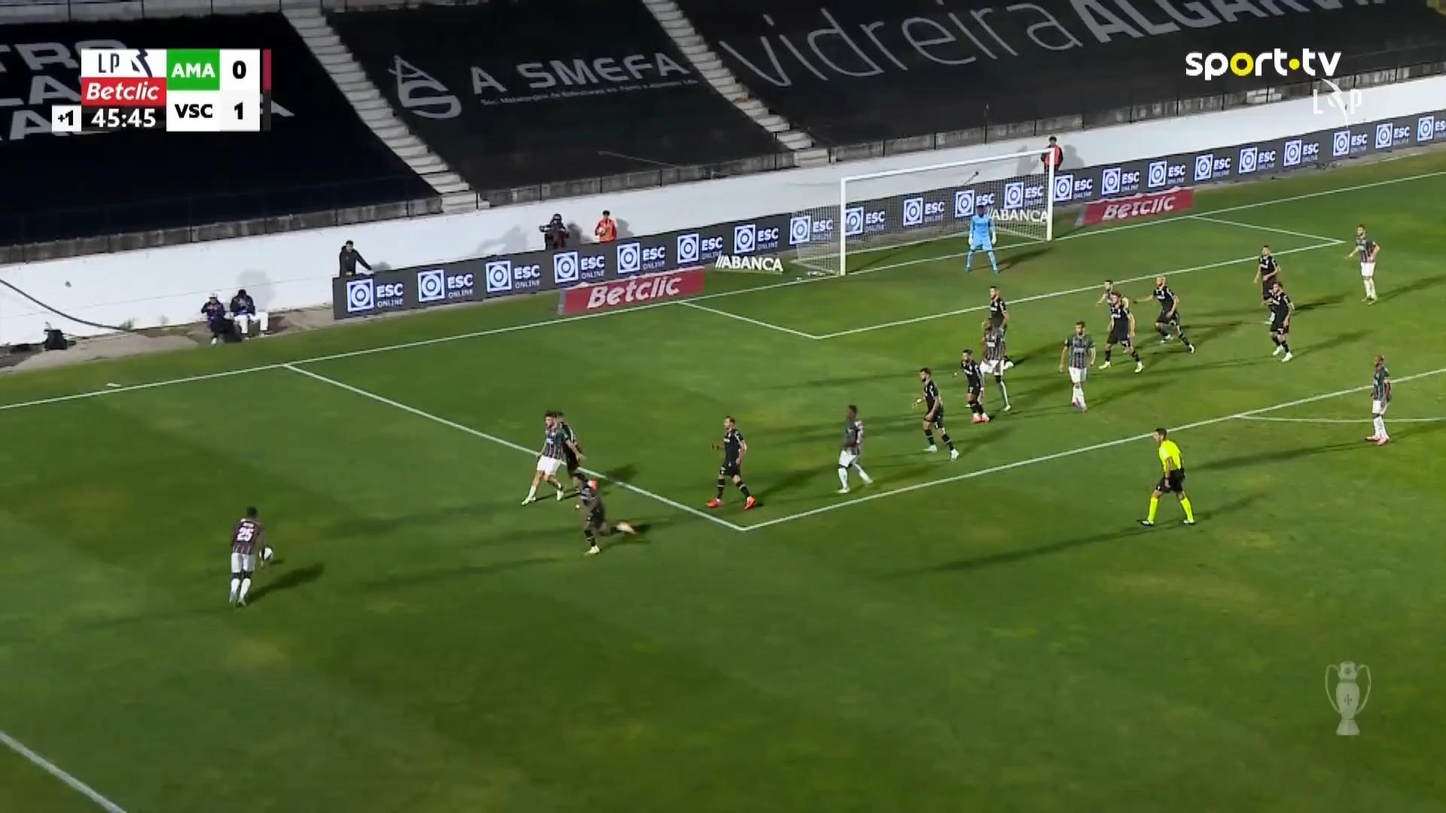ball: (259, 546, 274, 562)
goalkeeper: (964, 201, 999, 273)
player: (520, 409, 584, 505), (1133, 274, 1194, 353), (706, 415, 756, 510), (1094, 279, 1143, 373), (227, 505, 272, 607), (913, 367, 959, 461), (1057, 319, 1096, 412), (834, 403, 874, 493), (979, 319, 1014, 411), (572, 471, 609, 554), (953, 348, 993, 424), (1345, 224, 1380, 304), (981, 285, 1013, 369), (1264, 280, 1294, 362), (1365, 354, 1392, 444), (1252, 244, 1280, 323), (560, 418, 586, 492)
referee: (1137, 426, 1196, 526)
